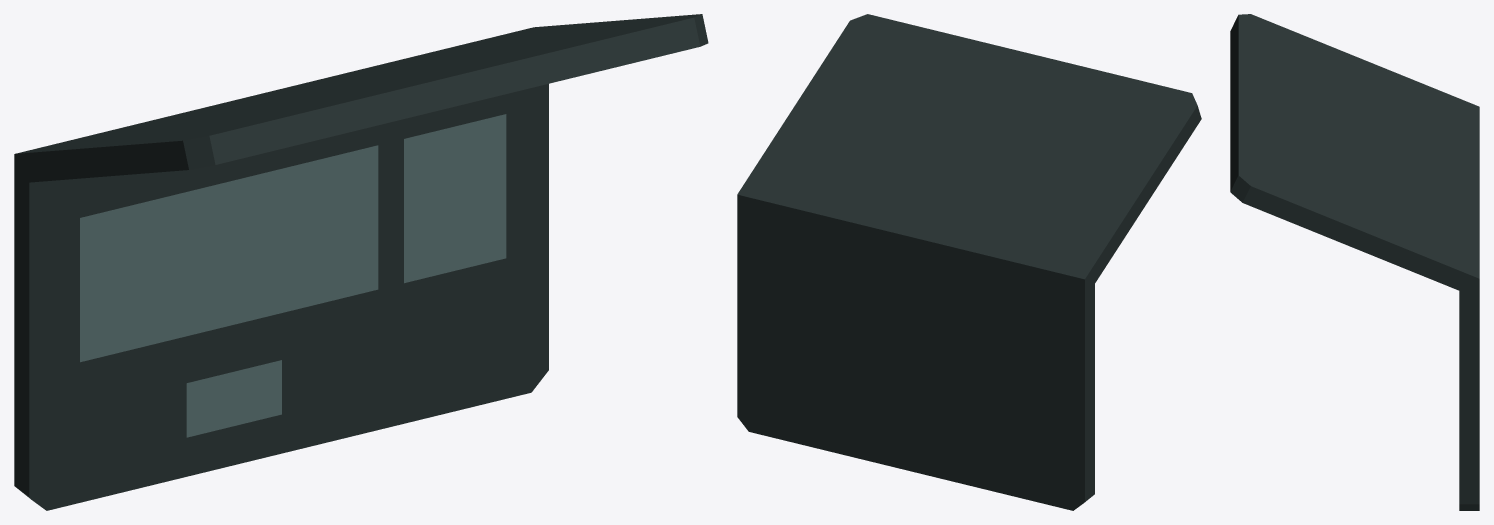
Rendered from laptop.obj.
3 views of the same model, side by side, from view 1: azimuth 30°, elevation 25°; view 2: azimuth 150°, elevation 25°; view 3: azimuth 270°, elevation 25° (orthographic). The views are drawn at different scales.
Parts seen in each view (by area): view 1: laptop; view 2: laptop; view 3: laptop.
Boxes of the visible parts, <box> form: laptop: <box>14,14,708,510</box>; laptop: <box>737,14,1201,510</box>; laptop: <box>1230,14,1479,510</box>.
Size of the model in its own units: 14.68 by 13.35 by 9.
